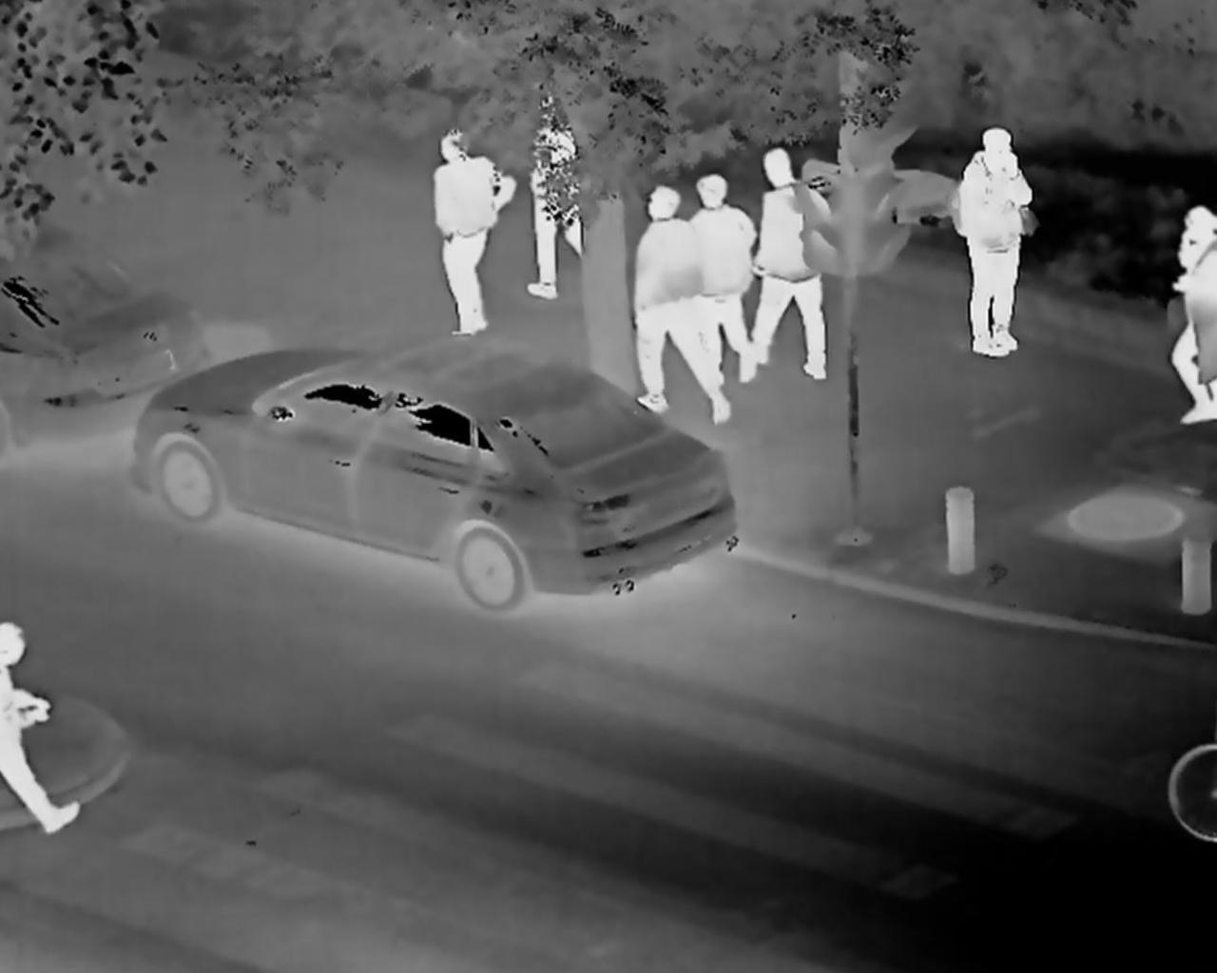person: (612, 164, 722, 419), (939, 128, 1048, 370), (754, 142, 836, 409), (521, 88, 617, 315), (432, 126, 525, 348), (666, 172, 759, 388), (2, 605, 85, 837), (1155, 199, 1217, 390)
